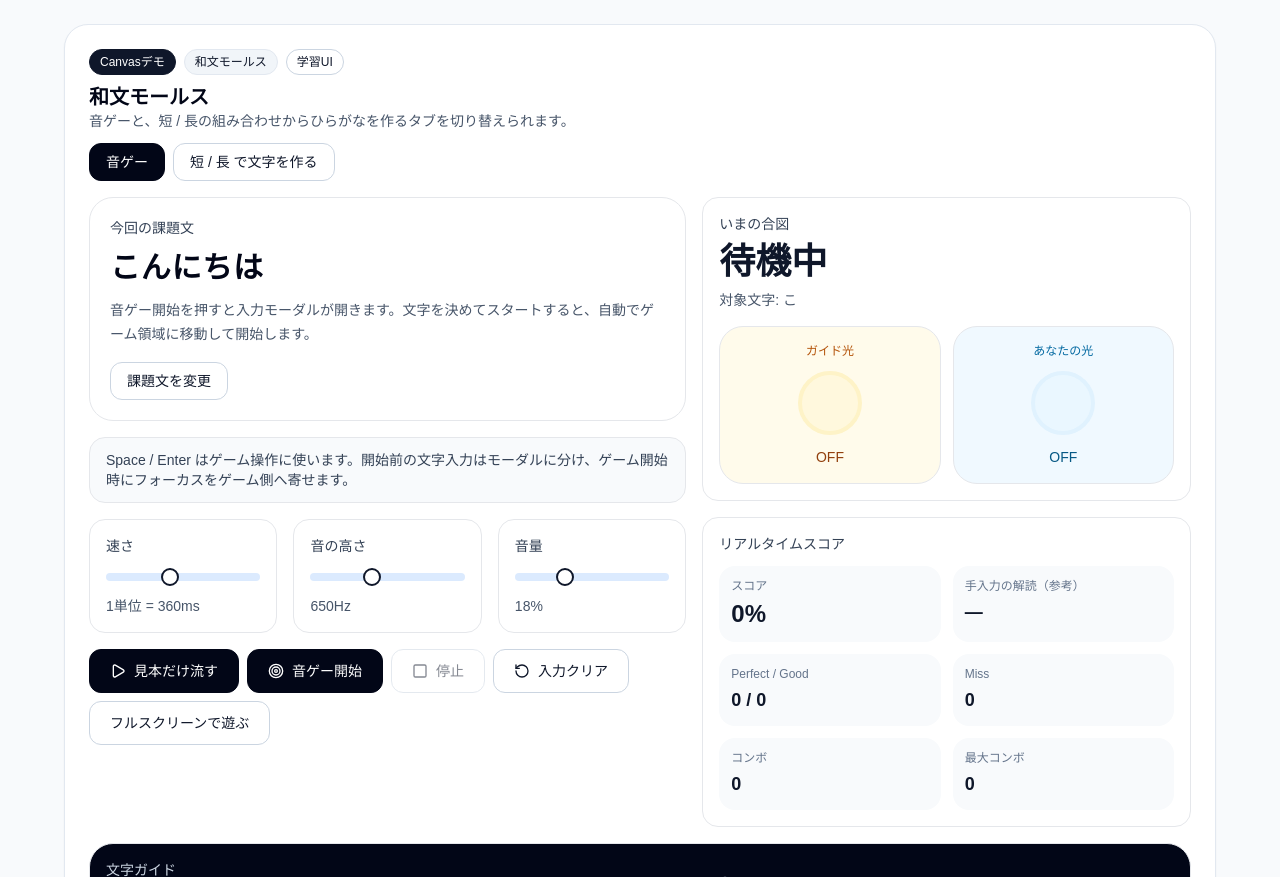
keyboard play controls › opens a start modal when the game start button is pressed
Click the button "音ゲー開始" at x=315, y=671, box [247, 649, 383, 693]
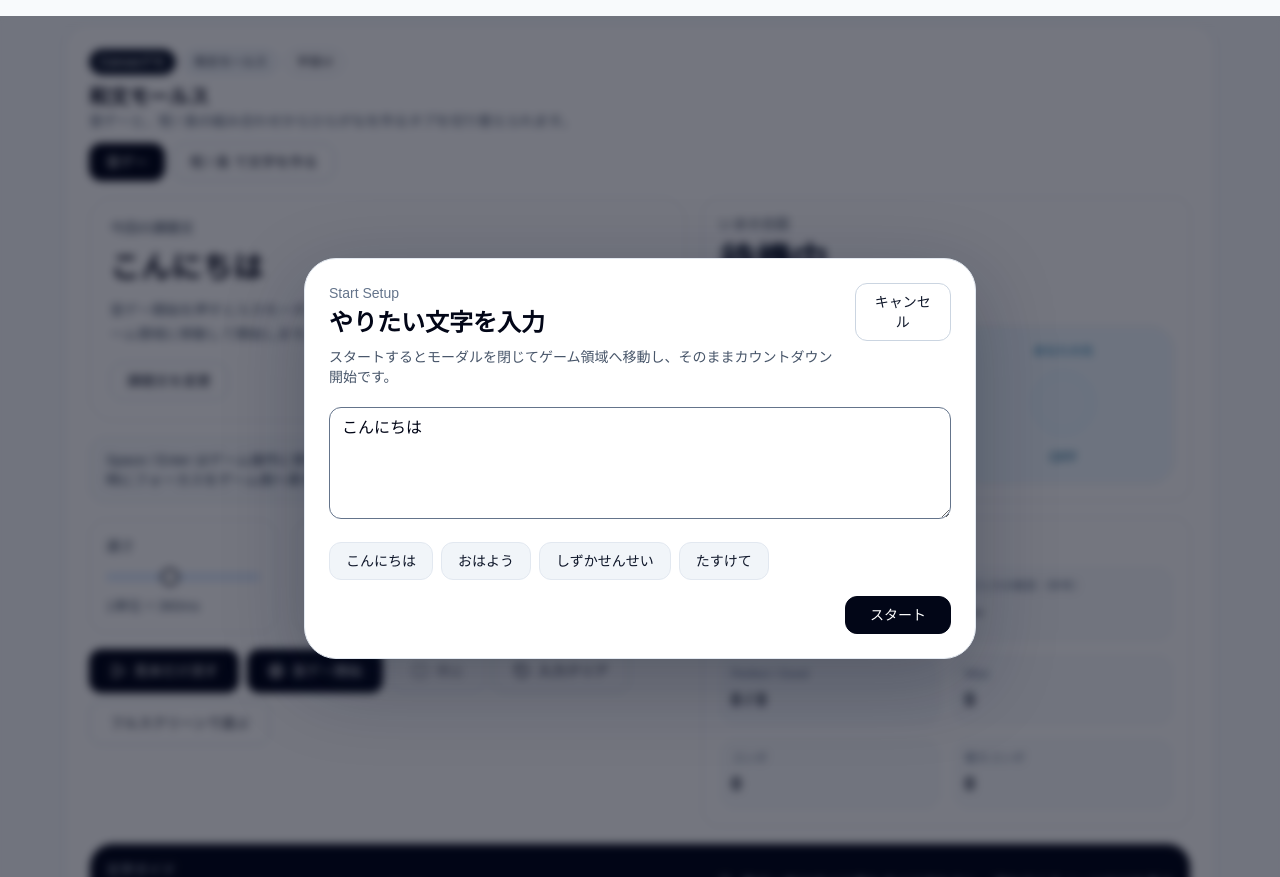
Result: the dialog named "開始する文字を入力" is shown at [304, 258, 976, 658]
Result: the text box is shown at [329, 406, 951, 518]
